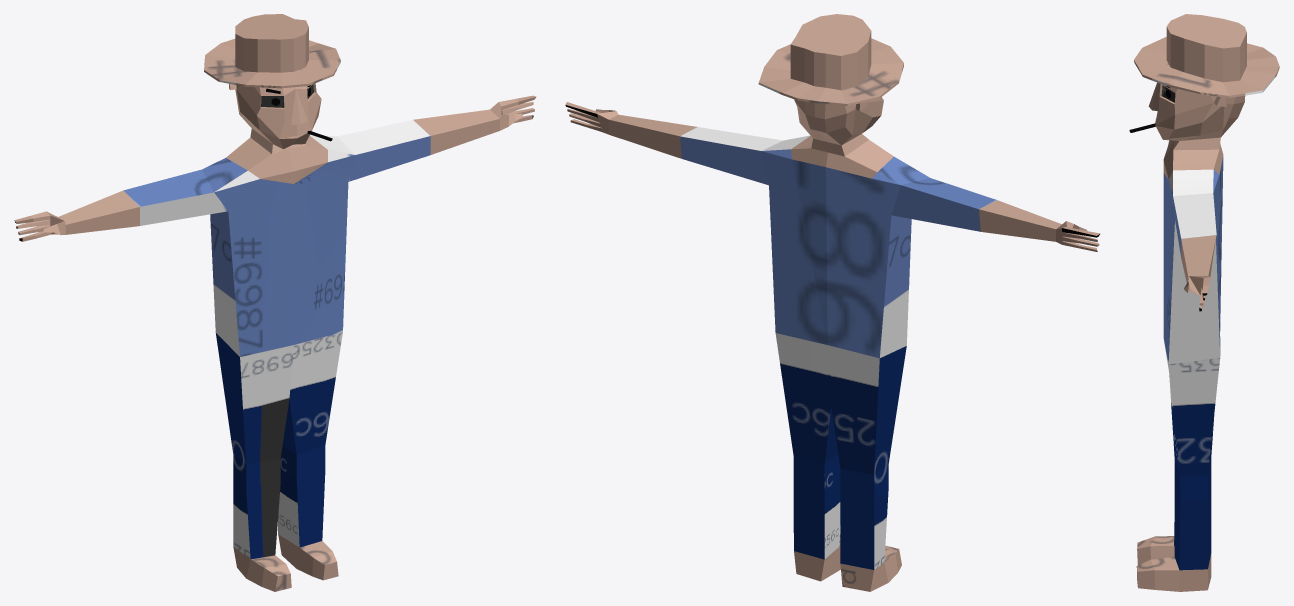
Rendered from ShopKeeper.fbx.
The picture shows the model from 3 angles, left to right: view 1: azimuth 30°, elevation 25°; view 2: azimuth 150°, elevation 25°; view 3: azimuth 270°, elevation 25°; orthographic projection. The views are drawn at different scales.
Visible parts, largest first — view 1: ShopKeeper; view 2: ShopKeeper; view 3: ShopKeeper.
Boxes of the visible parts, left/top/right/bottom form: ShopKeeper: left=14, top=14, right=536, bottom=591; ShopKeeper: left=565, top=14, right=1100, bottom=591; ShopKeeper: left=1129, top=14, right=1279, bottom=591.
Bounding box in the file's own units: 990 × 976 × 243.
